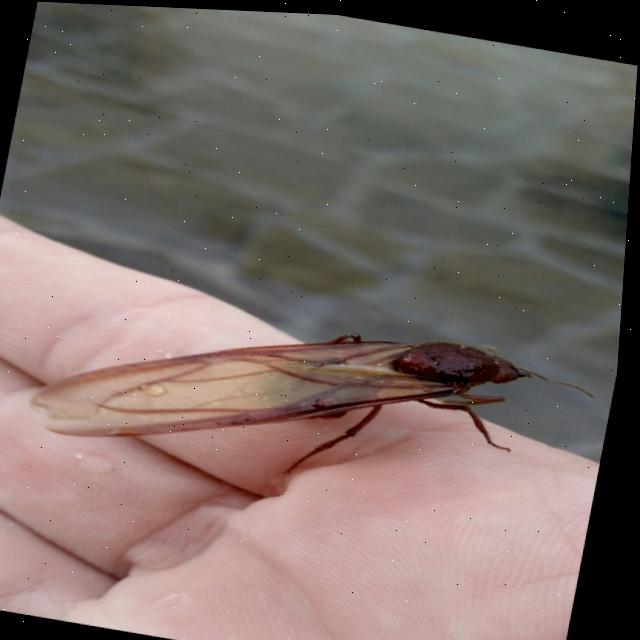Alive-Female-Alate: (24, 270, 609, 516)
